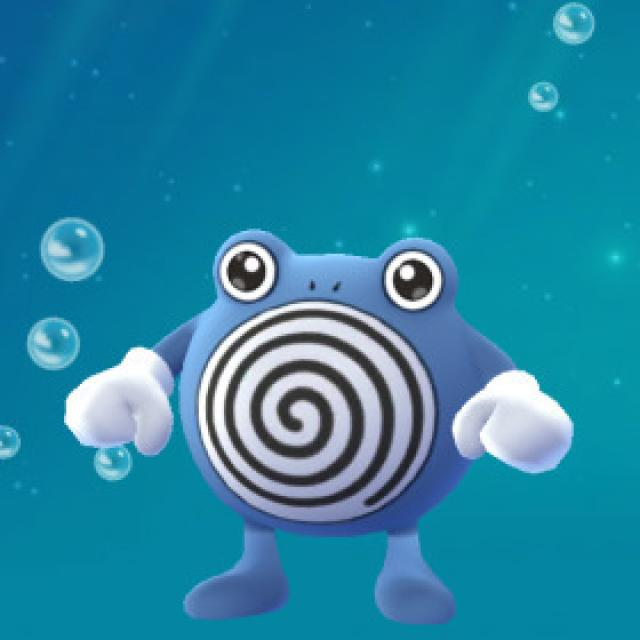Poliwhirl: (83, 238, 550, 612)
